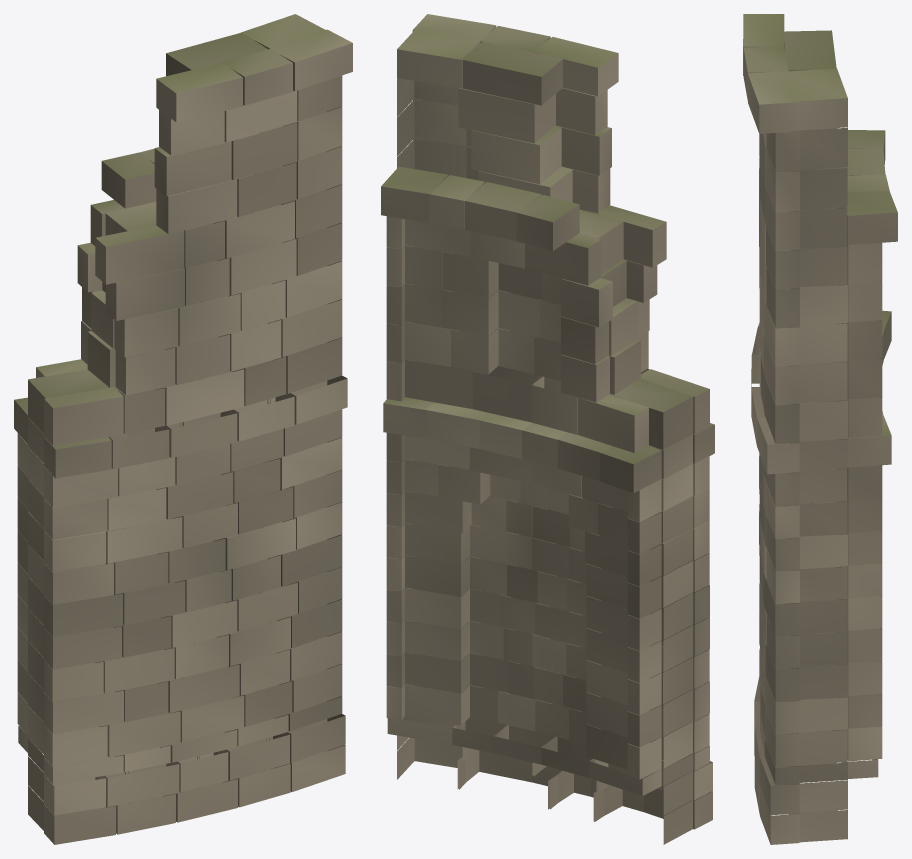
The model's file is dome_drum_bp2_mid.glb.
The picture shows the model from 3 angles, left to right: view 1: azimuth 30°, elevation 25°; view 2: azimuth 150°, elevation 25°; view 3: azimuth 270°, elevation 25°; orthographic projection.
Visible parts, largest first — view 1: dome_drum_bp2_mid; view 2: dome_drum_bp2_mid; view 3: dome_drum_bp2_mid.
Part boxes in pixels (x1,y1,x2,y2): dome_drum_bp2_mid: [14, 14, 352, 844]; dome_drum_bp2_mid: [381, 14, 714, 844]; dome_drum_bp2_mid: [743, 14, 897, 844].
Bounding box in the file's own units: 20.87 × 49.97 × 9.46.
